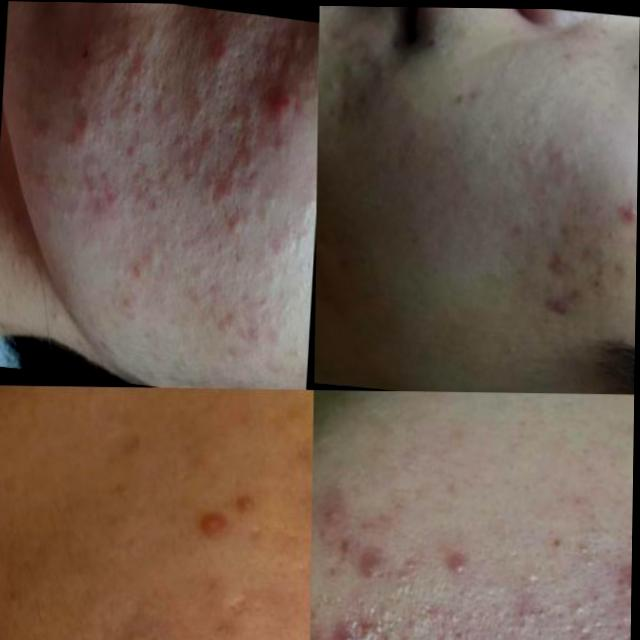8: (332, 531, 401, 582), (420, 538, 477, 591), (598, 538, 634, 615), (271, 67, 298, 136), (326, 606, 365, 640), (186, 266, 208, 322), (224, 204, 249, 244), (73, 106, 99, 143), (210, 36, 233, 71), (615, 193, 638, 223), (220, 308, 237, 338), (146, 190, 163, 220), (104, 187, 122, 215), (91, 191, 108, 216), (120, 37, 135, 65), (130, 257, 146, 283), (126, 141, 140, 165), (59, 202, 71, 225)
blackheads: (202, 558, 265, 633), (579, 242, 621, 294), (538, 281, 583, 320), (532, 244, 579, 279)
dark spot: (240, 124, 258, 152), (236, 176, 252, 204), (133, 95, 150, 120), (237, 153, 255, 173)
